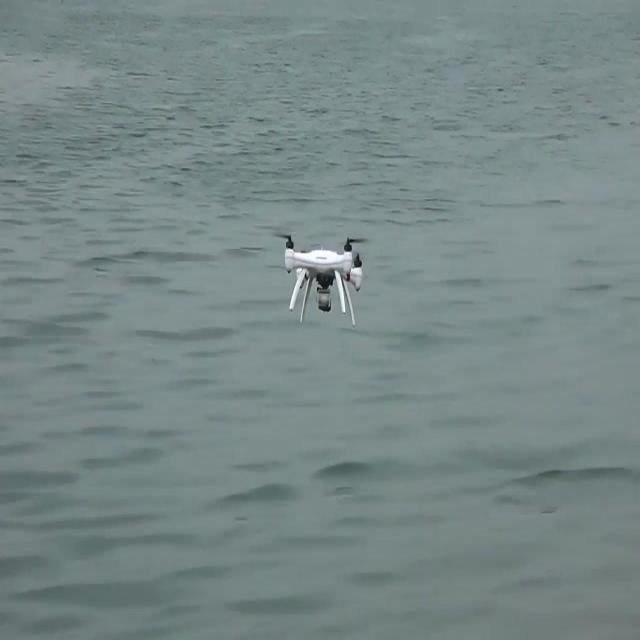UAV: (285, 235, 362, 327)
